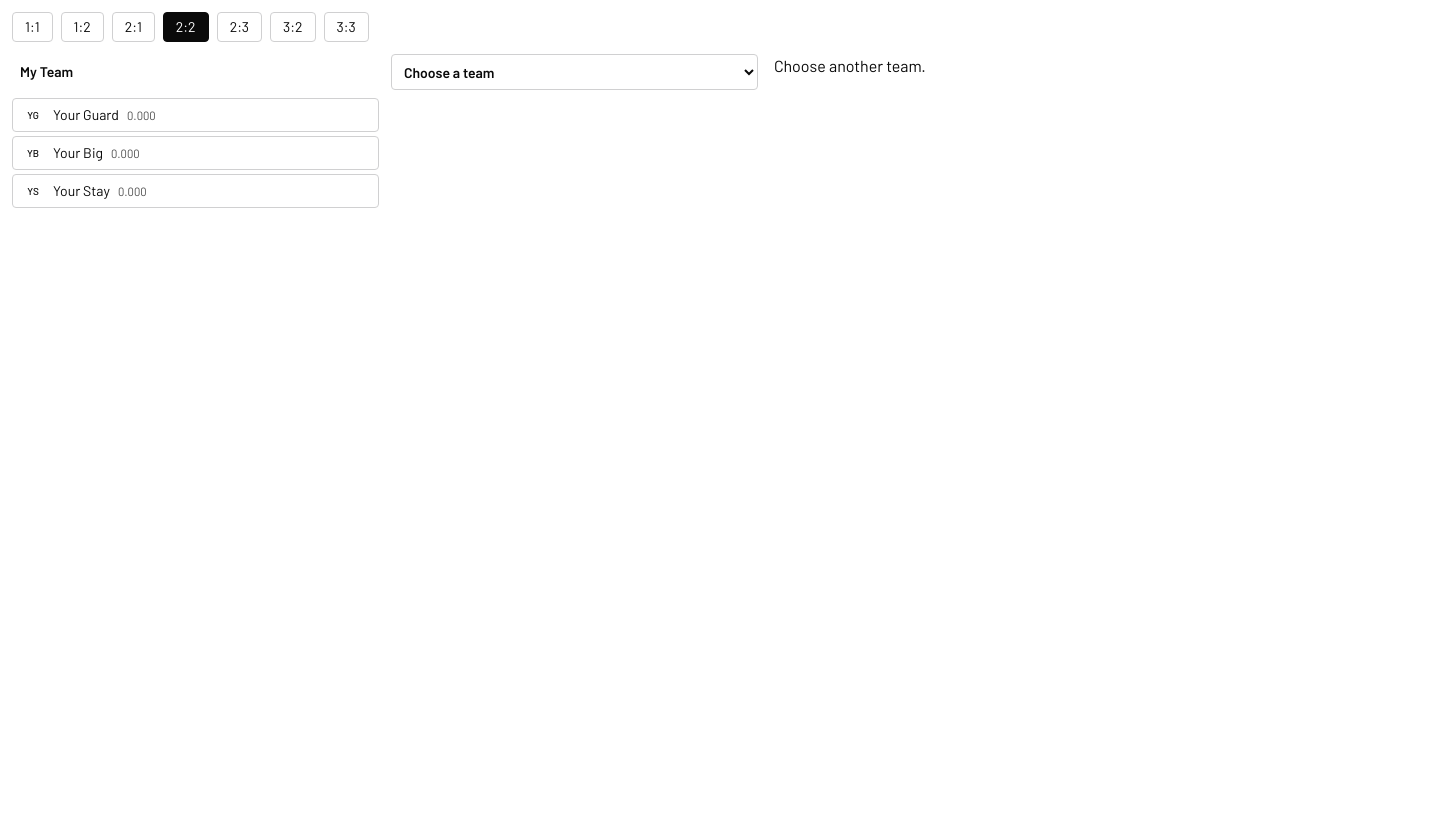
Test case: TradeSimulation › recommends a player who fills the open slot fairly
Select "Rivals" in the dropdown named "Team". click: (574, 72)
box: [391, 54, 758, 90]
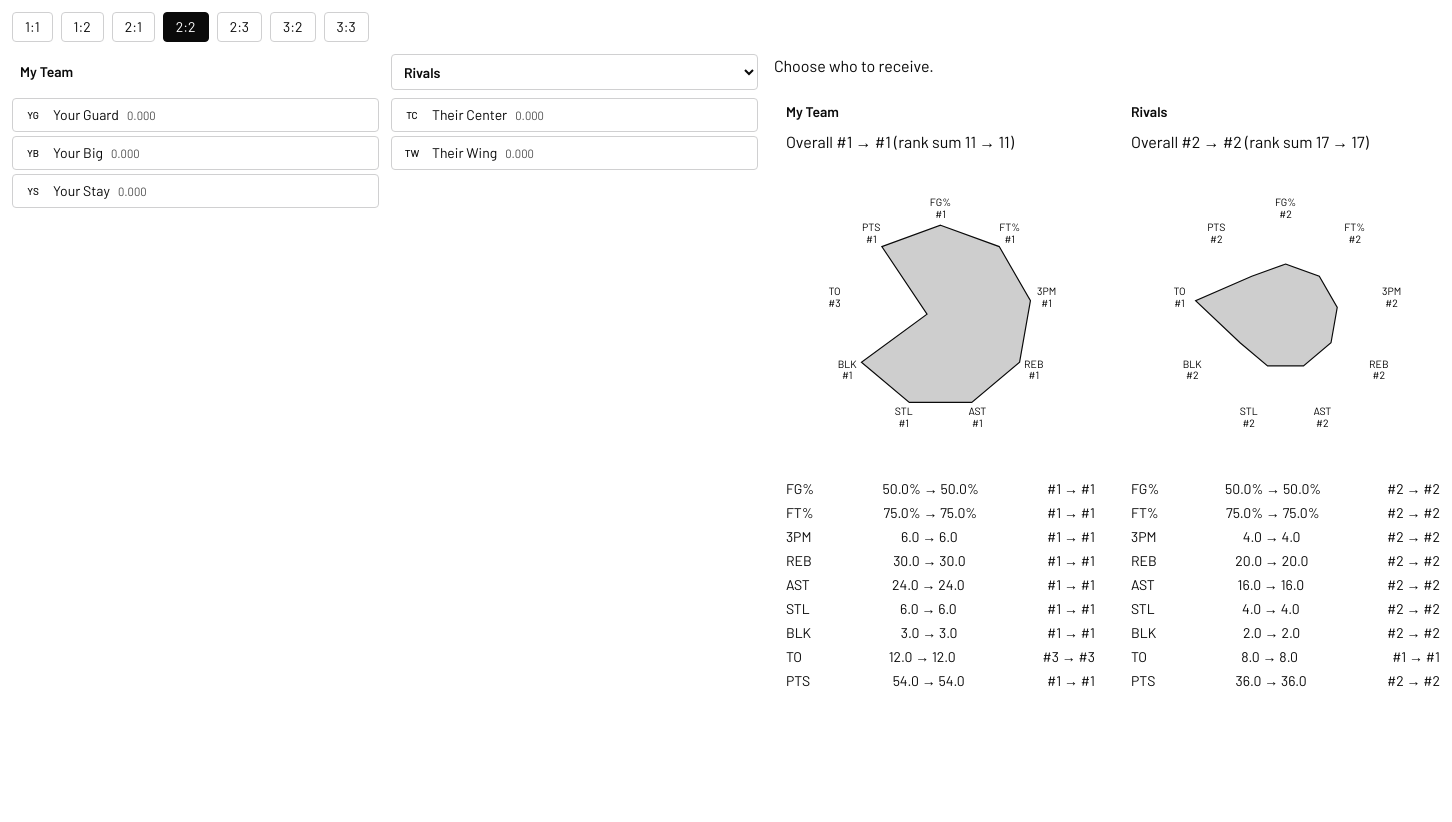
Click the button "TC Their Center 0.000". click: (470, 114)
box: [391, 98, 758, 132]
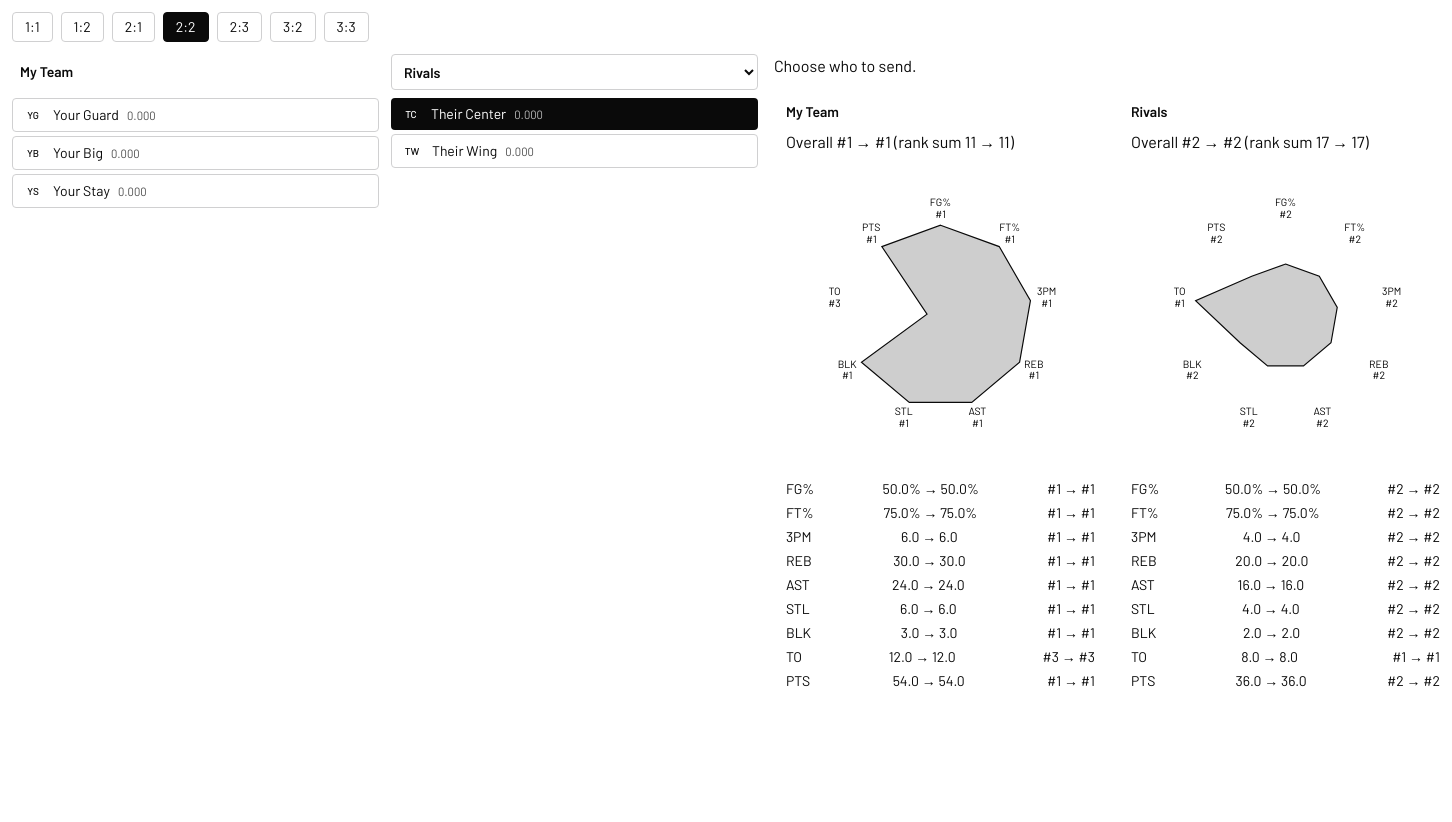
Click the button "TW Their Wing 0.000". click: (465, 150)
box: [391, 134, 758, 168]
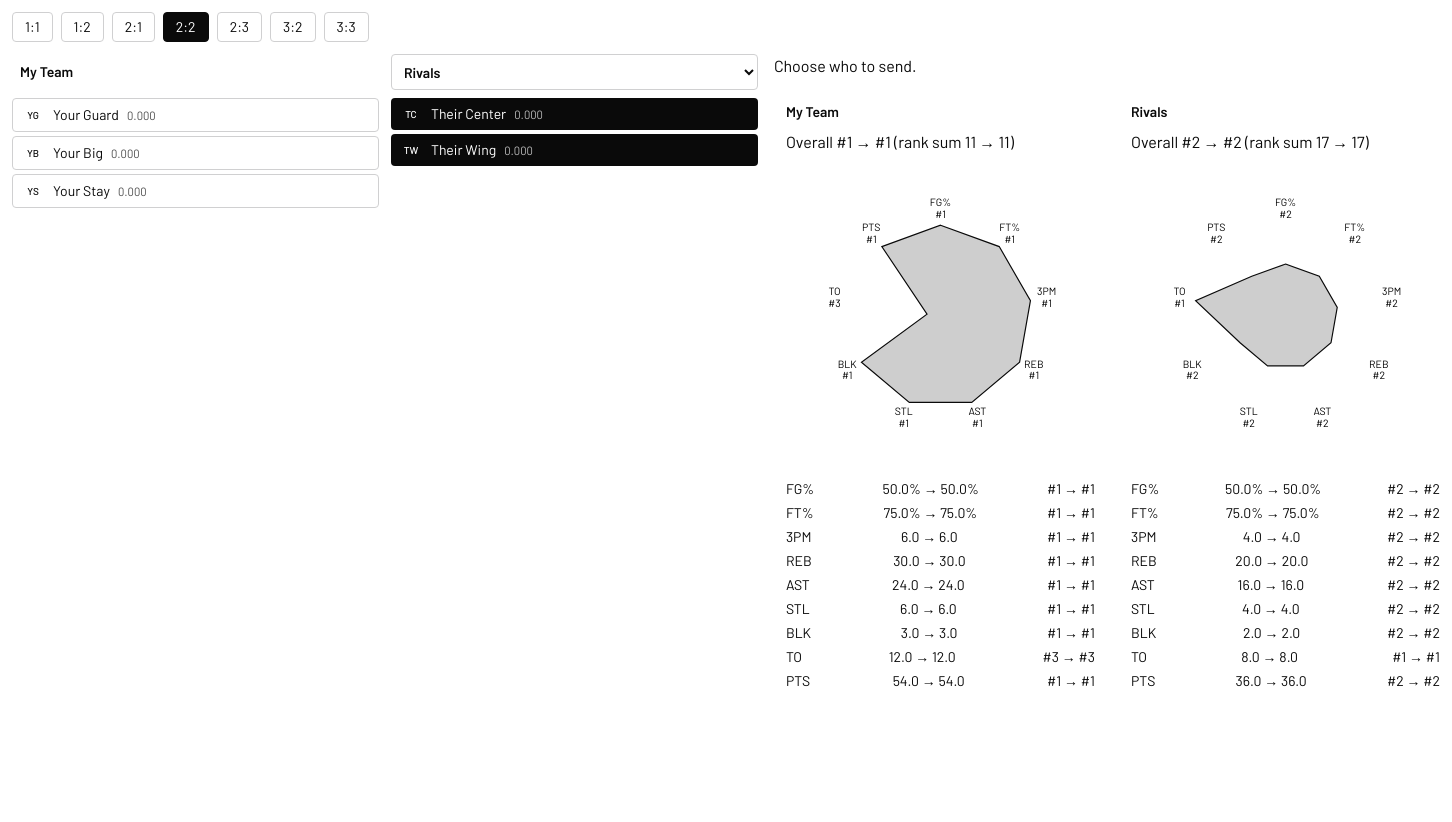
Click the button "YG Your Guard 0.000". click: (86, 114)
box: [12, 98, 379, 132]
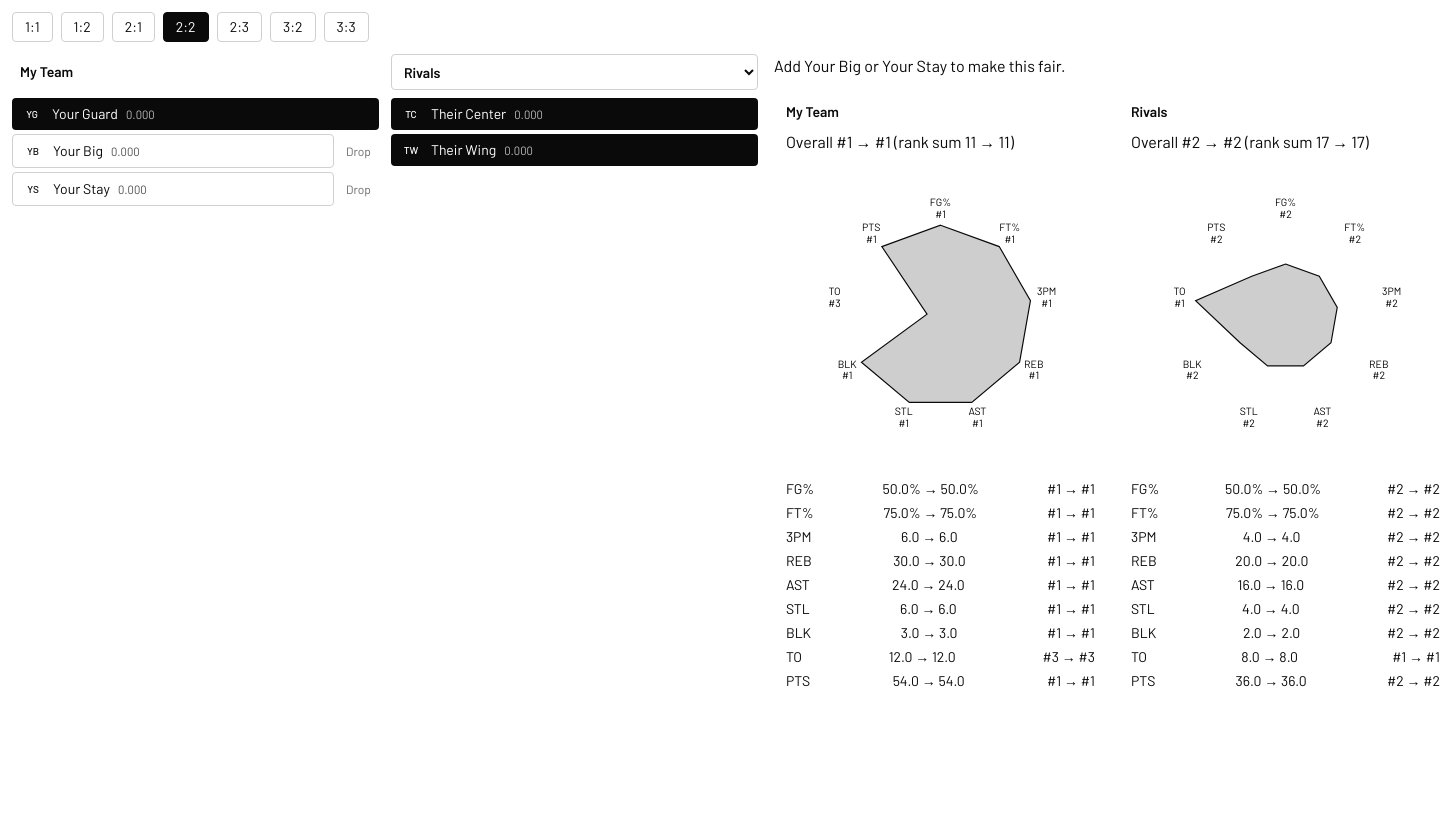
expect the text "Add Your Big or Your Stay to make this fair." is shown: met, box [774, 56, 1066, 75]
